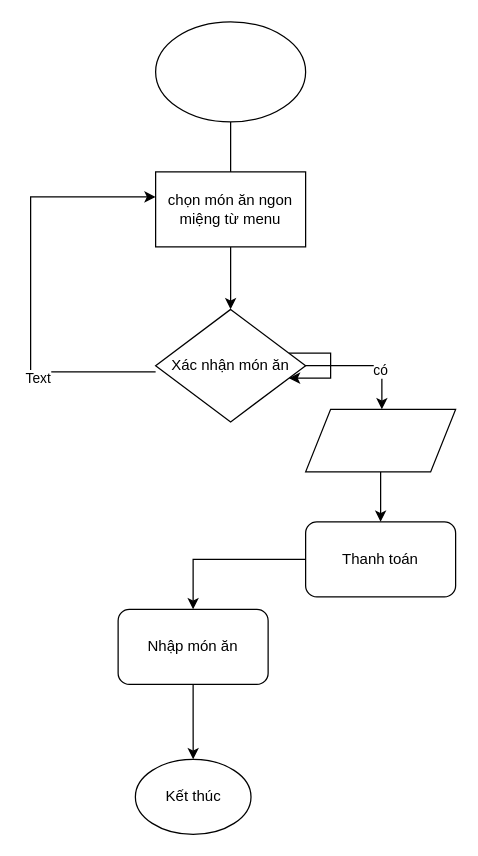
This 478x856 diagram has some shape labels left out. The shapes that lost their labels are listed below. From the top down, each one's centre as x and y in pixels, then its label:
At (230,71): "Bắt đầu".
At (380,440): "Cung cấp địa chi".
